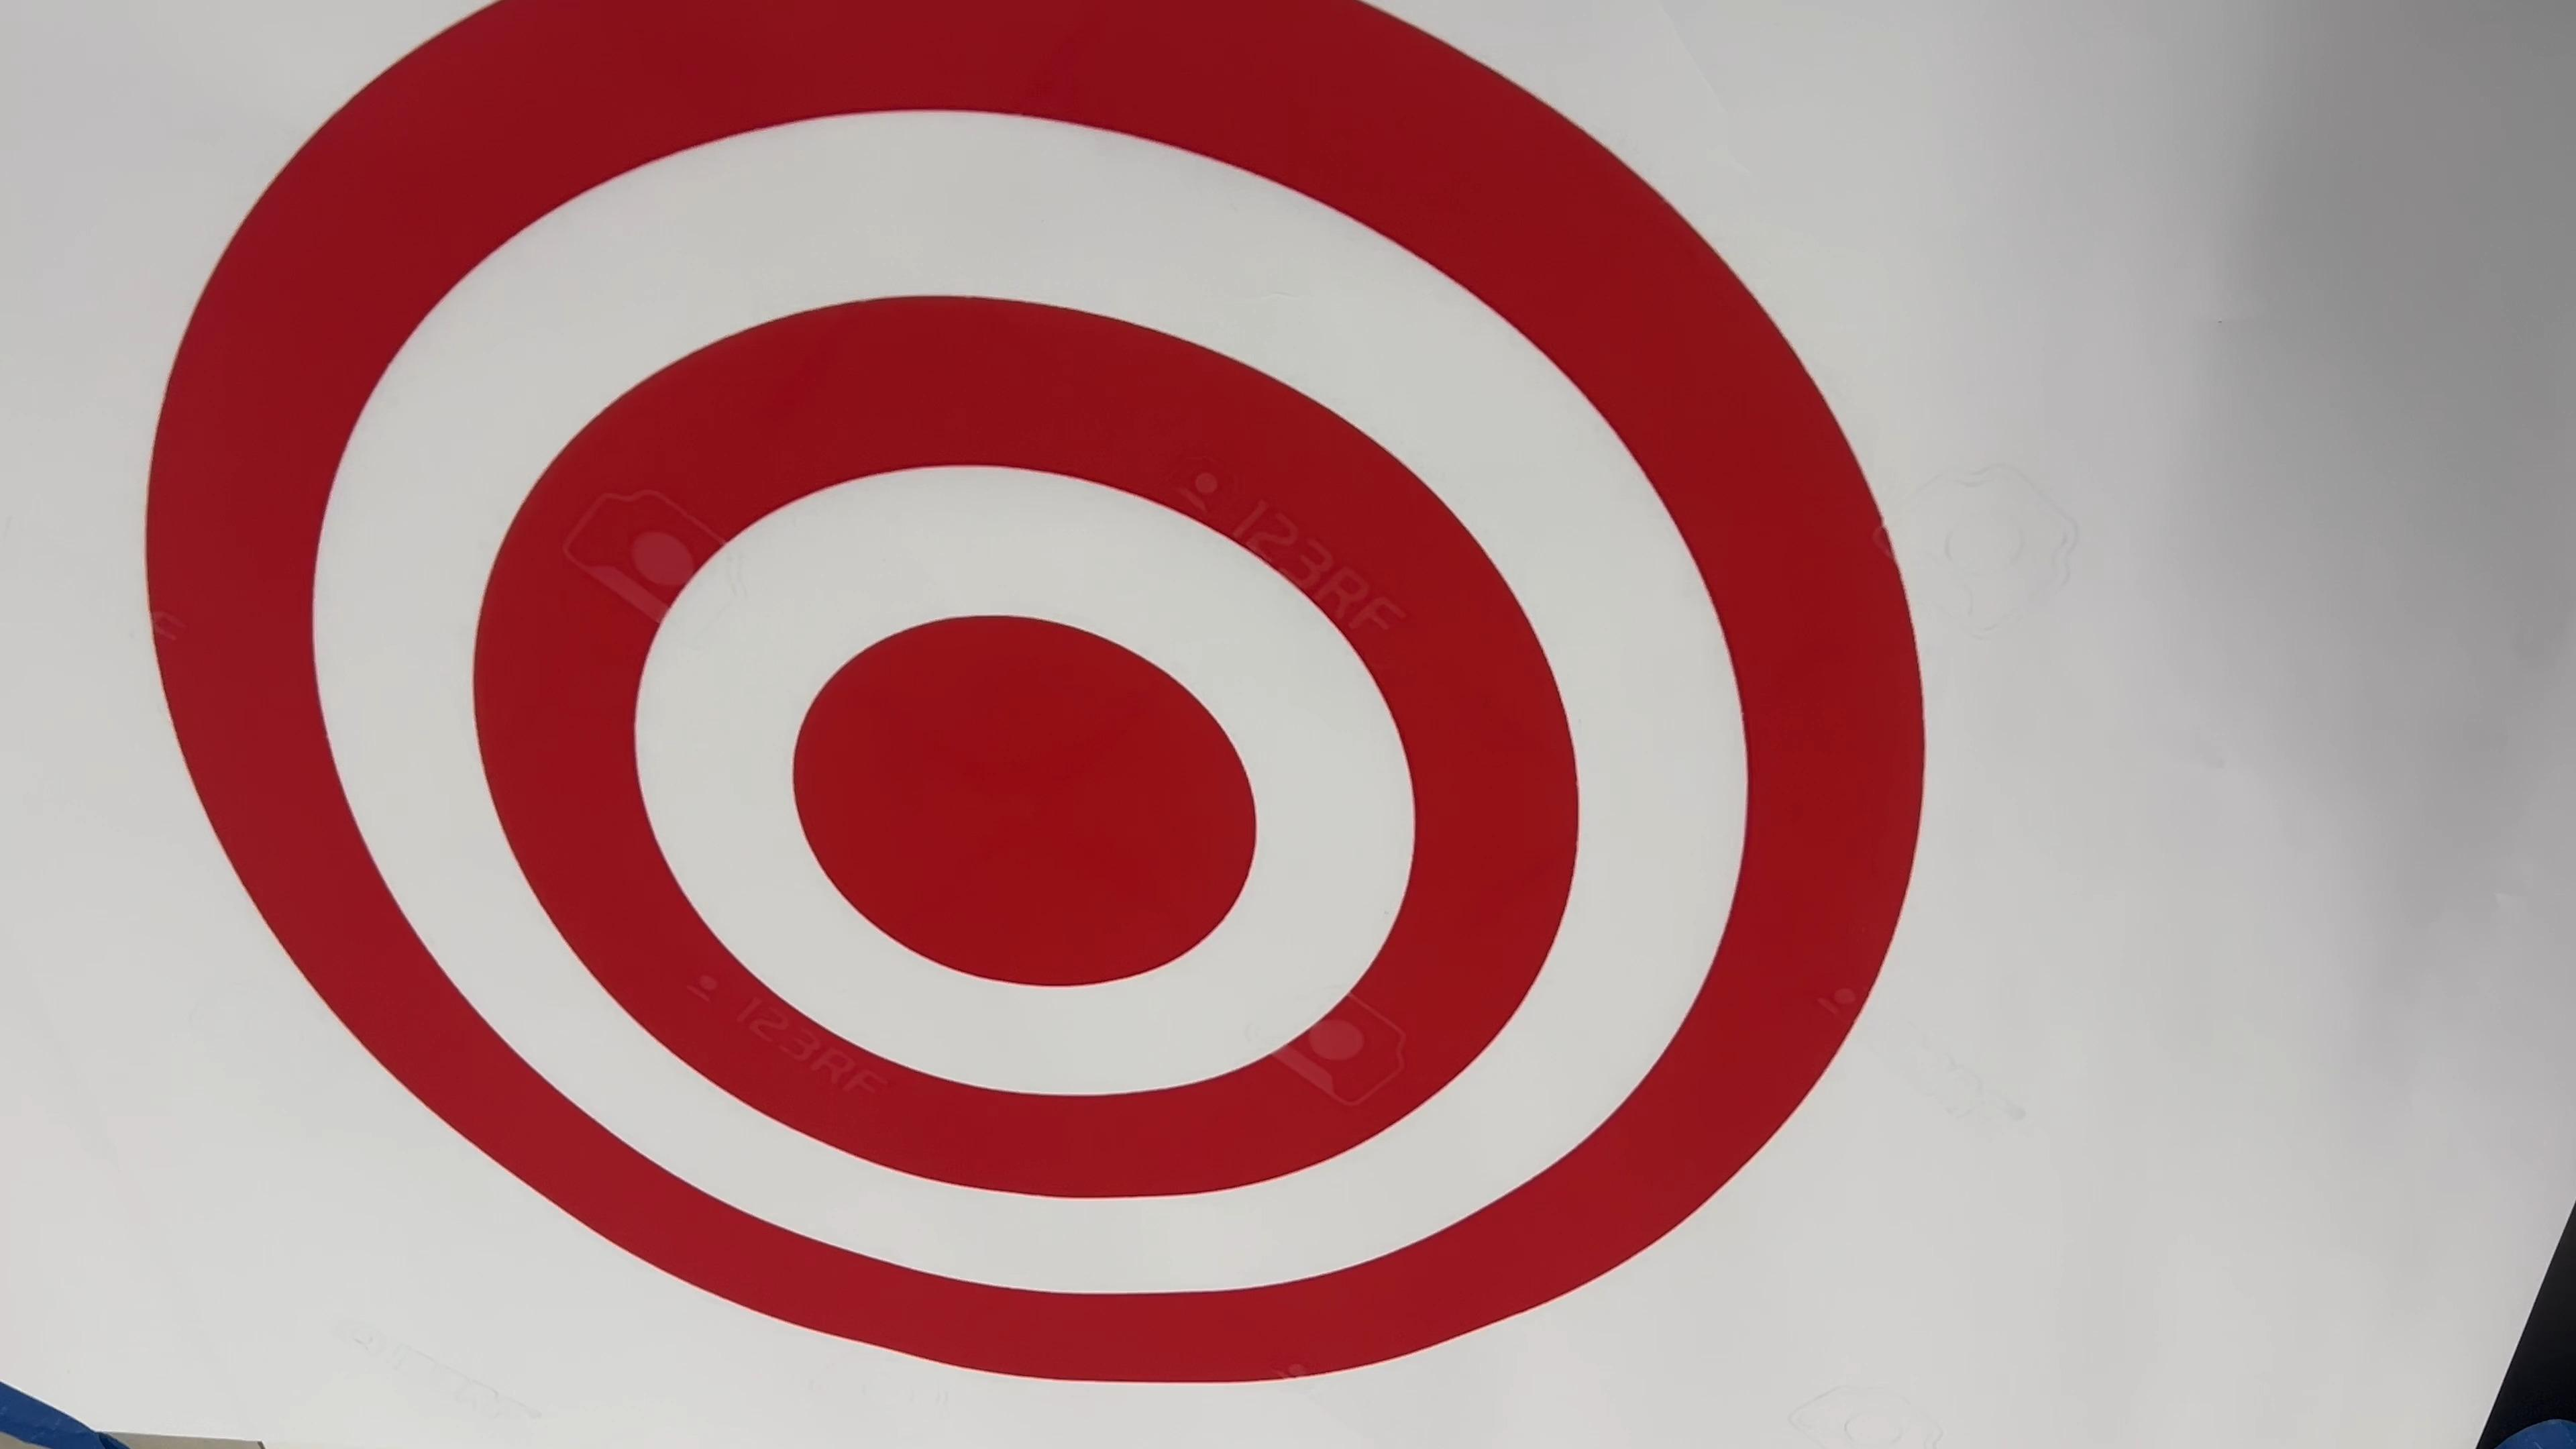target_red: (88, 0, 1953, 1449)
